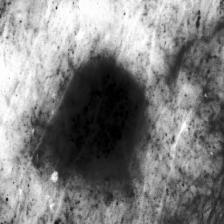Benign Marking or Mole: (55, 62, 146, 172)
